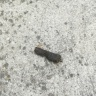Dog: (34, 46, 62, 64)
